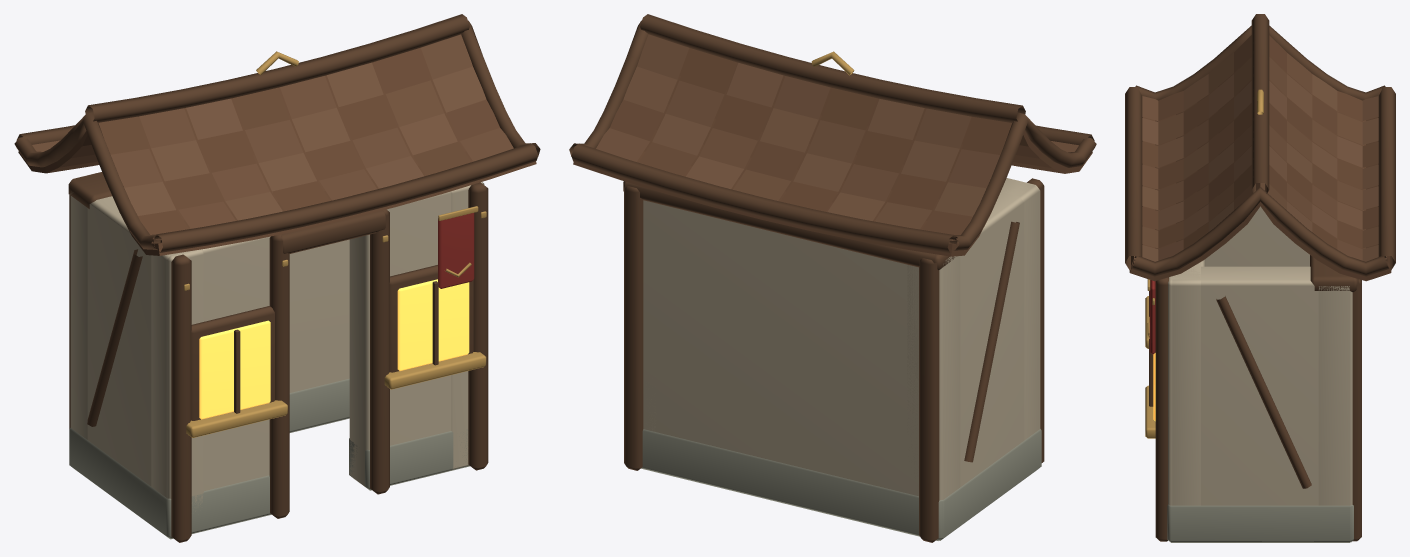
File: architecture-porch.glb
3 views of the same model, side by side, from view 1: azimuth 30°, elevation 25°; view 2: azimuth 150°, elevation 25°; view 3: azimuth 270°, elevation 25° (orthographic). The views are drawn at different scales.
Visible parts, largest first — view 1: architecture-porch-exterior; view 2: architecture-porch-exterior; view 3: architecture-porch-exterior.
Boxes of the visible parts, x1,y1,x2,y2 form: architecture-porch-exterior: (14, 14, 540, 542); architecture-porch-exterior: (569, 14, 1096, 542); architecture-porch-exterior: (1125, 14, 1395, 542).
Bounding box in the file's own units: 3.07 × 3.12 × 2.
